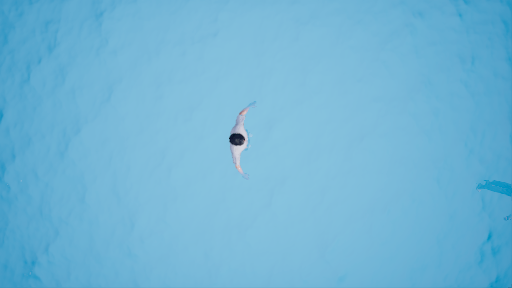person: (229, 100, 267, 182)
